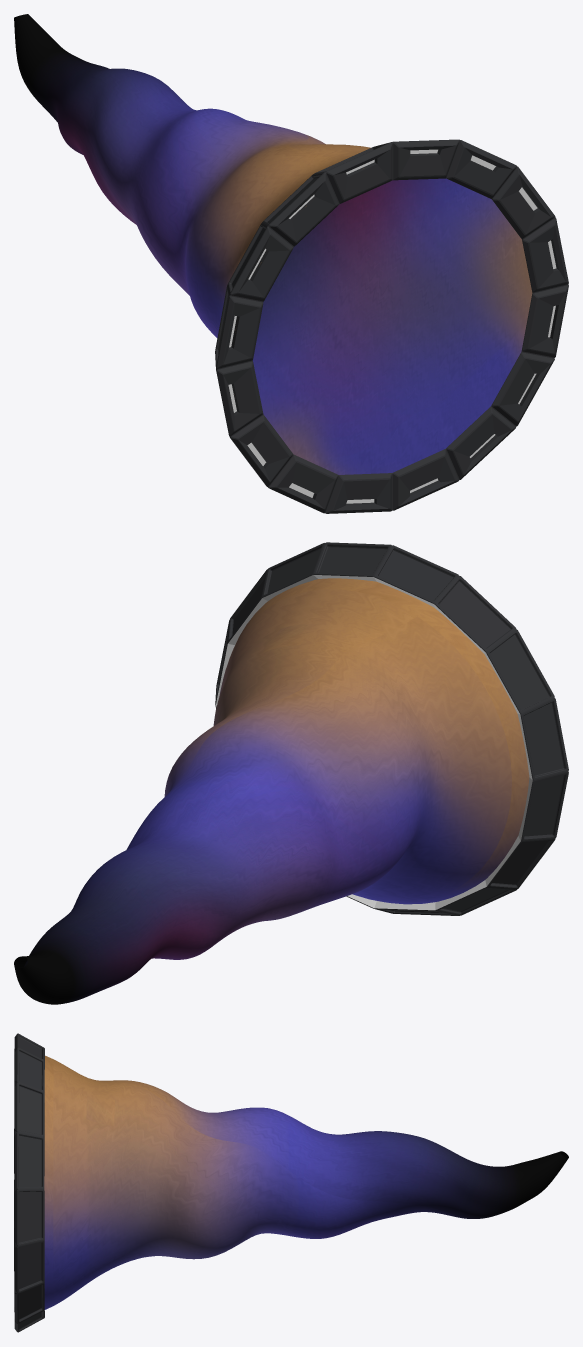
The model's file is Portal.fbx.
3 views of the same model, one above another, from view 1: azimuth 30°, elevation 25°; view 2: azimuth 150°, elevation 25°; view 3: azimuth 270°, elevation 25° (orthographic). The views are drawn at different scales.
Visible parts, largest first — view 1: Gateway, PortalWall; view 2: PortalWall, Gateway; view 3: PortalWall, Gateway.
Part boxes in pixels (<box>): Gateway: <box>215,139,568,513</box>; PortalWall: <box>14,14,370,394</box>; PortalWall: <box>14,578,529,1004</box>; Gateway: <box>215,542,568,915</box>; PortalWall: <box>44,1055,568,1309</box>; Gateway: <box>14,1033,44,1332</box>.
Bounding box in the file's own units: 1294 × 1293 × 2398.
